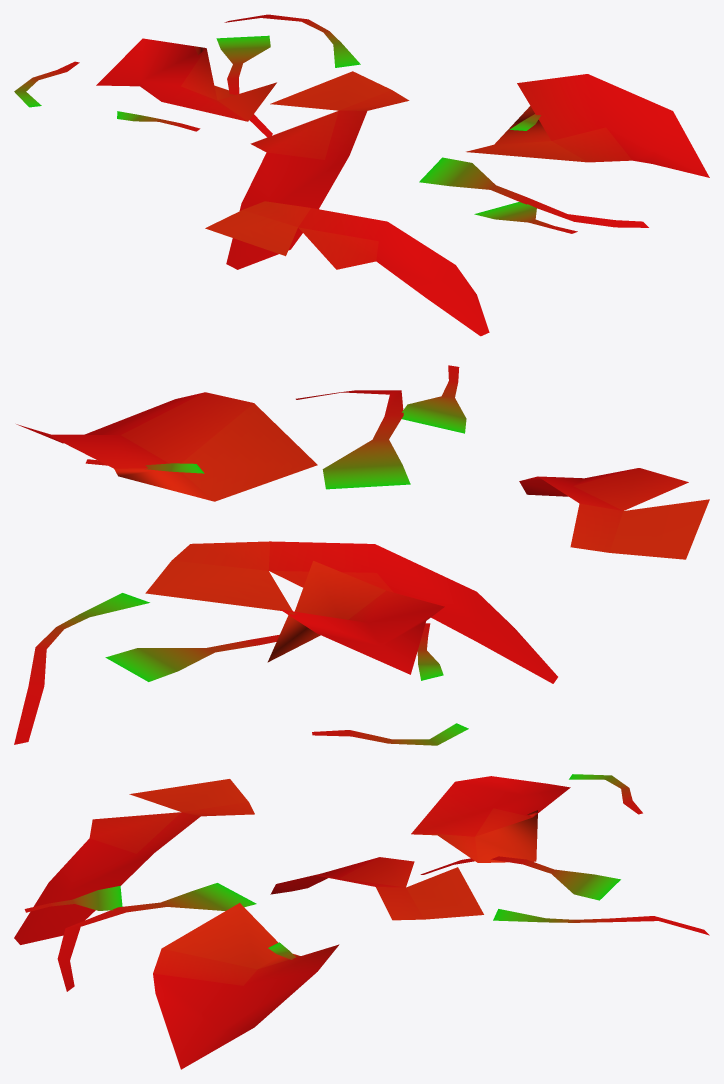
File: Xanadu_LOD1_Var9_siroZ.fbx
The picture shows the model from 3 angles, top to bottom: view 1: azimuth 30°, elevation 25°; view 2: azimuth 150°, elevation 25°; view 3: azimuth 270°, elevation 25°; orthographic projection. The views are drawn at different scales.
Visible parts, largest first — view 1: _a954_Var9_LOD1; view 2: _a954_Var9_LOD1; view 3: _a954_Var9_LOD1.
Boxes of the visible parts, left/top/right/bottom form: _a954_Var9_LOD1: left=14, top=14, right=709, bottom=336; _a954_Var9_LOD1: left=14, top=365, right=709, bottom=745; _a954_Var9_LOD1: left=14, top=774, right=709, bottom=1069.
Size of the model in its own units: 38.81 by 9.22 by 46.69.
